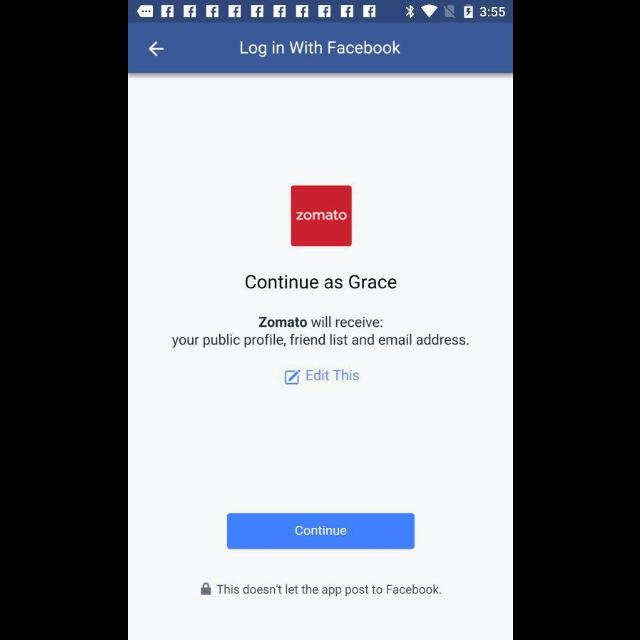icon: (284, 370, 302, 384), (149, 42, 163, 56), (200, 582, 210, 596)
image: (290, 186, 352, 247)
text: (172, 334, 470, 348), (217, 584, 441, 596), (240, 42, 400, 58), (246, 275, 396, 291), (258, 316, 384, 328), (306, 369, 358, 381)
textbutton: (226, 513, 414, 549)
uppertaskbar: (128, 1, 512, 23)
